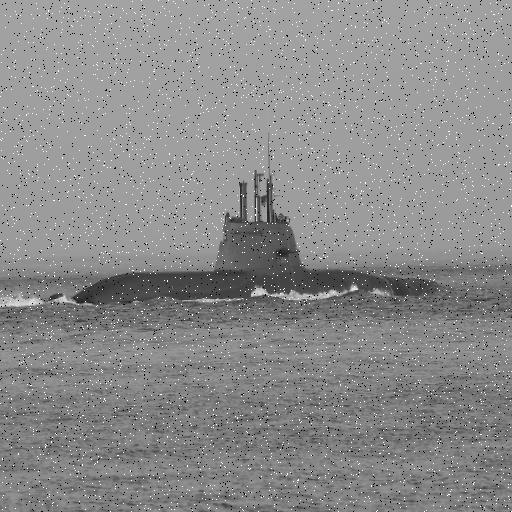submarine: (50, 167, 443, 306)
